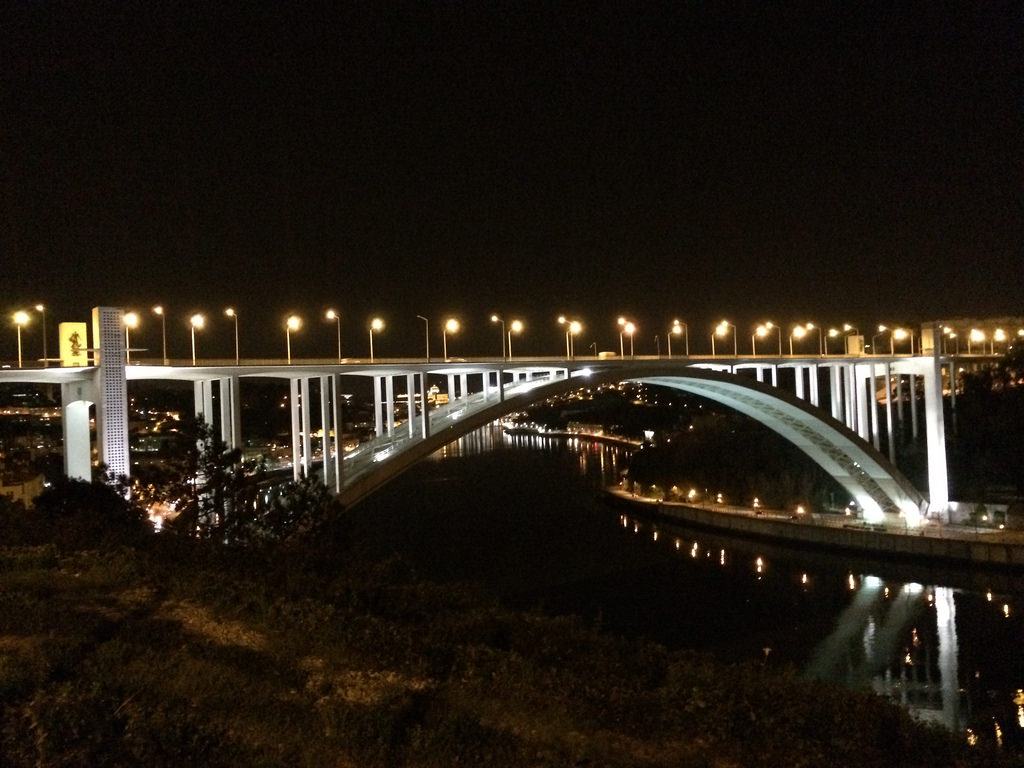arrabida: (0, 304, 1023, 538)
